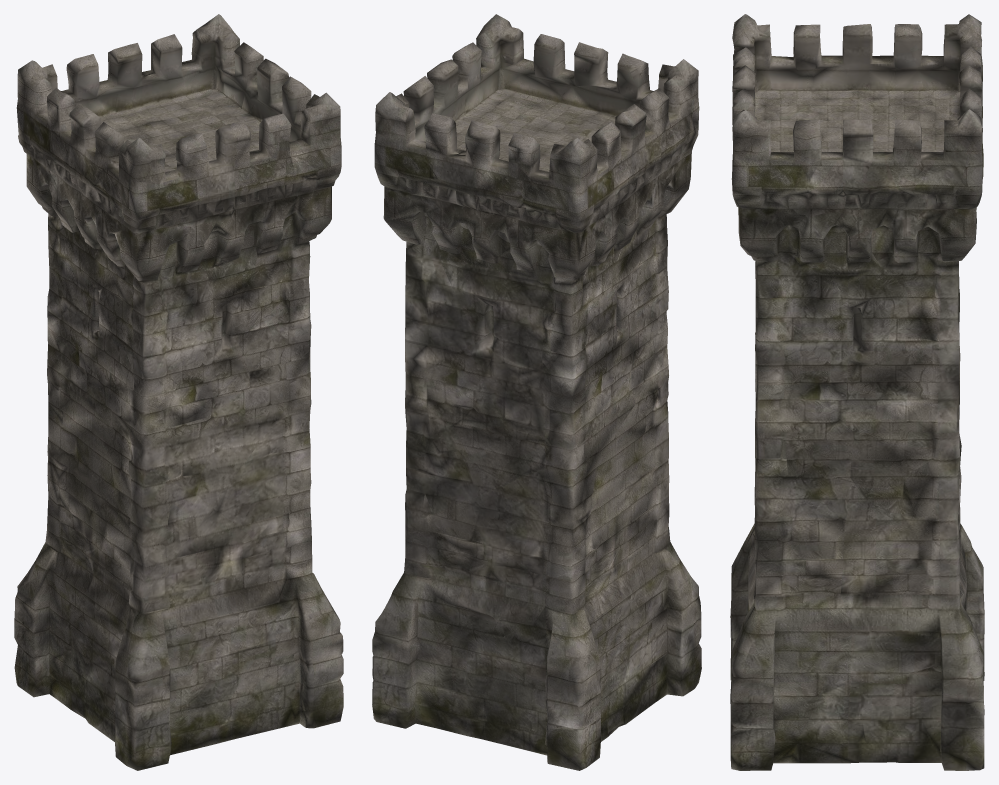
The model's file is fort_m_ruins_tower.glb.
The picture shows the model from 3 angles, left to right: view 1: azimuth 30°, elevation 25°; view 2: azimuth 150°, elevation 25°; view 3: azimuth 270°, elevation 25°; orthographic projection. The views are drawn at different scales.
Visible parts, largest first — view 1: fort_m_ruins_tower; view 2: fort_m_ruins_tower; view 3: fort_m_ruins_tower.
Boxes of the visible parts, x1,y1,x2,y2 form: fort_m_ruins_tower: (14, 14, 343, 770); fort_m_ruins_tower: (372, 14, 701, 770); fort_m_ruins_tower: (730, 14, 984, 770).
Bounding box in the file's own units: 0.67 × 1.9 × 0.6688.
Materials: 1 (1 with a texture image).
